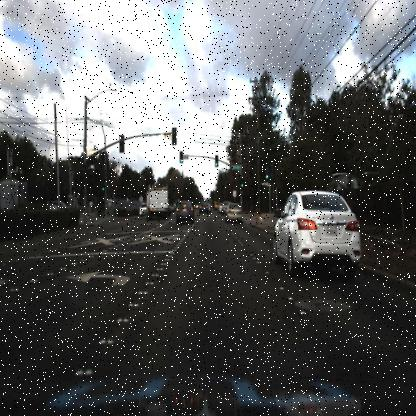car: (267, 176, 361, 286), (40, 195, 70, 219), (224, 195, 247, 217), (175, 199, 195, 223), (198, 198, 212, 214)
trafficLight-Green: (213, 154, 223, 169), (99, 183, 107, 199), (177, 151, 185, 167), (238, 176, 245, 190), (213, 154, 219, 170), (263, 170, 271, 182), (239, 180, 245, 192), (265, 166, 269, 181)
truck: (143, 183, 171, 221), (143, 189, 168, 220)
